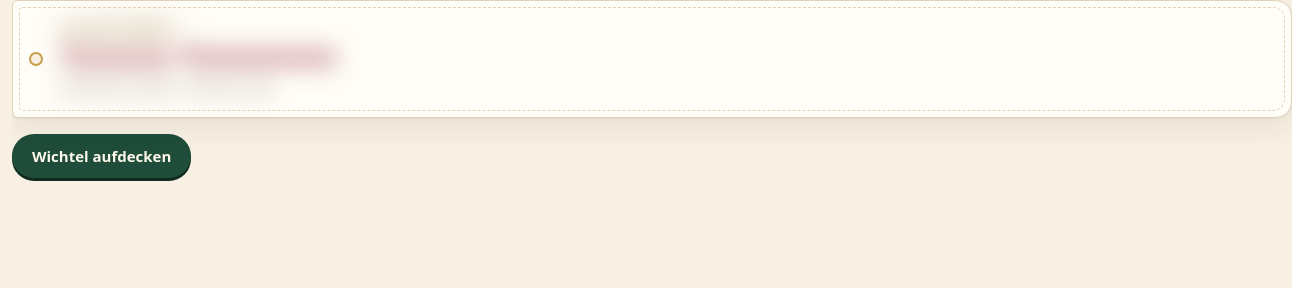
Test case: AssignmentReveal › says so when a participant has no wishes
This screenshot has width=1292, height=288.
Click the button "Wichtel aufdecken". click: [102, 156]
box: [12, 134, 191, 178]
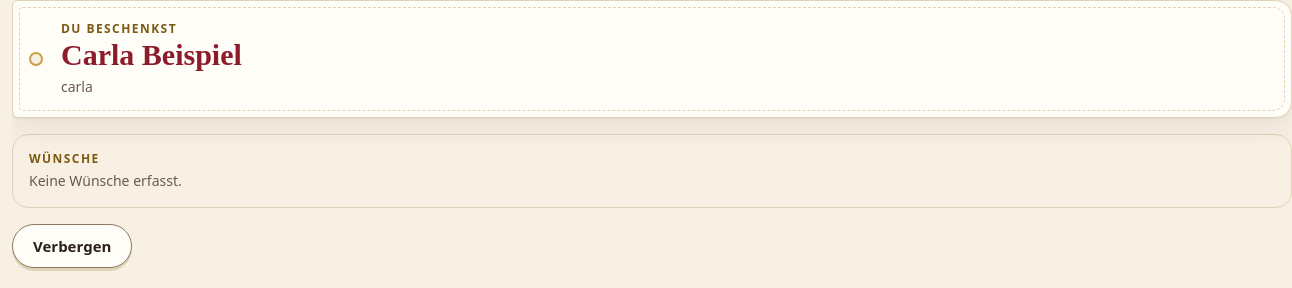
Expected: the text "Keine Wünsche erfasst." is shown, [29, 171, 182, 190]
